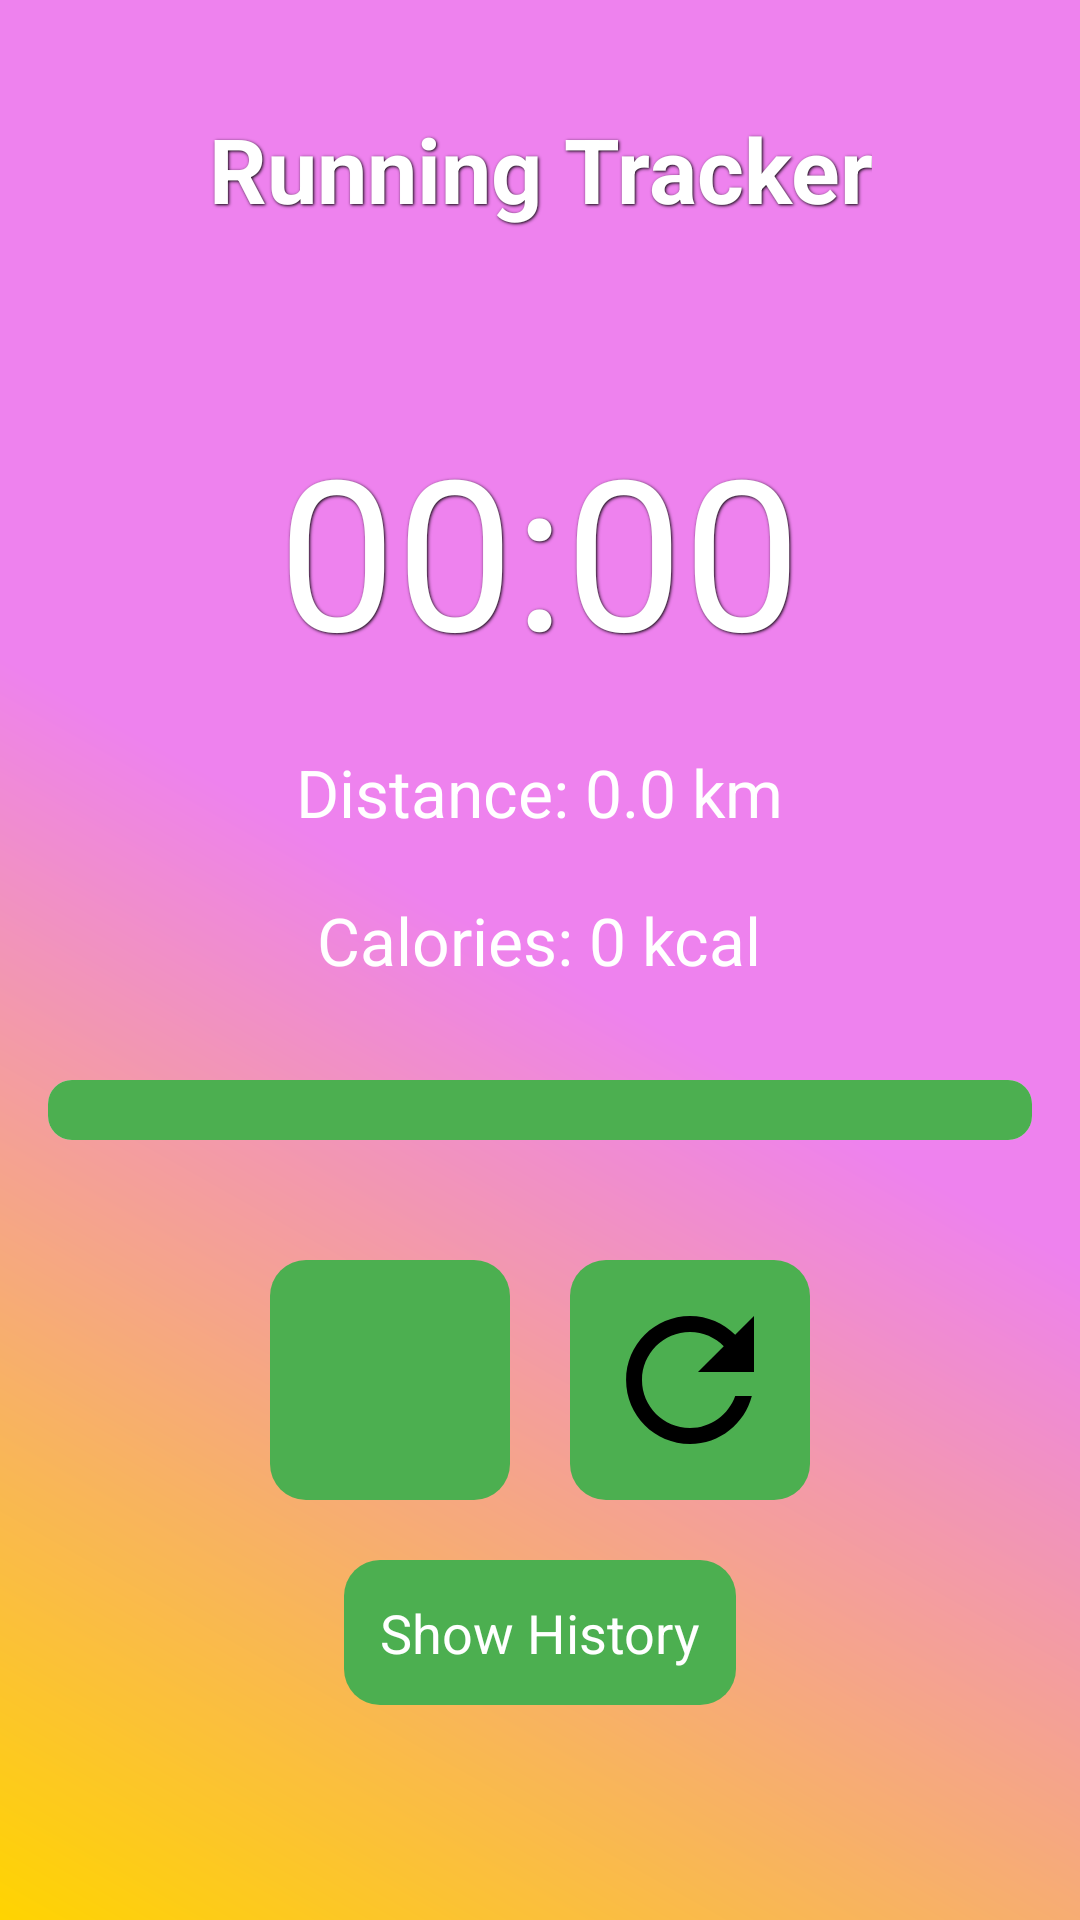

Point at icon controls on the screen. Image size 1080x1920, points as [x,y].
refresh: [690,1380]
